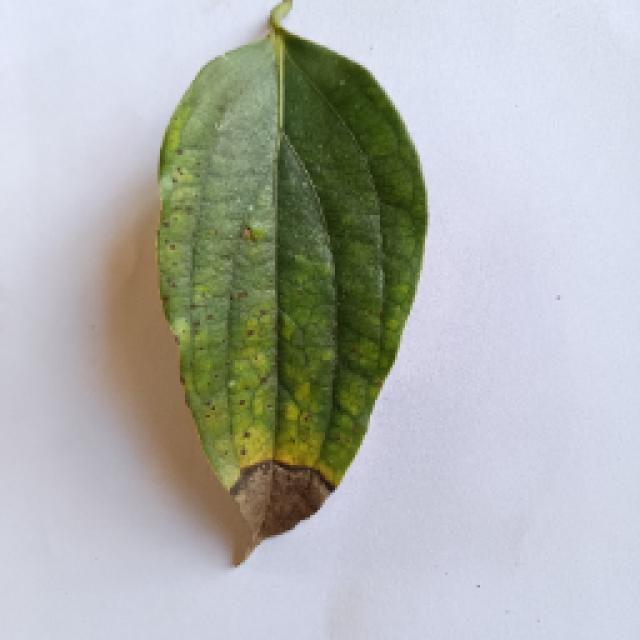footrot: (138, 10, 438, 560)
